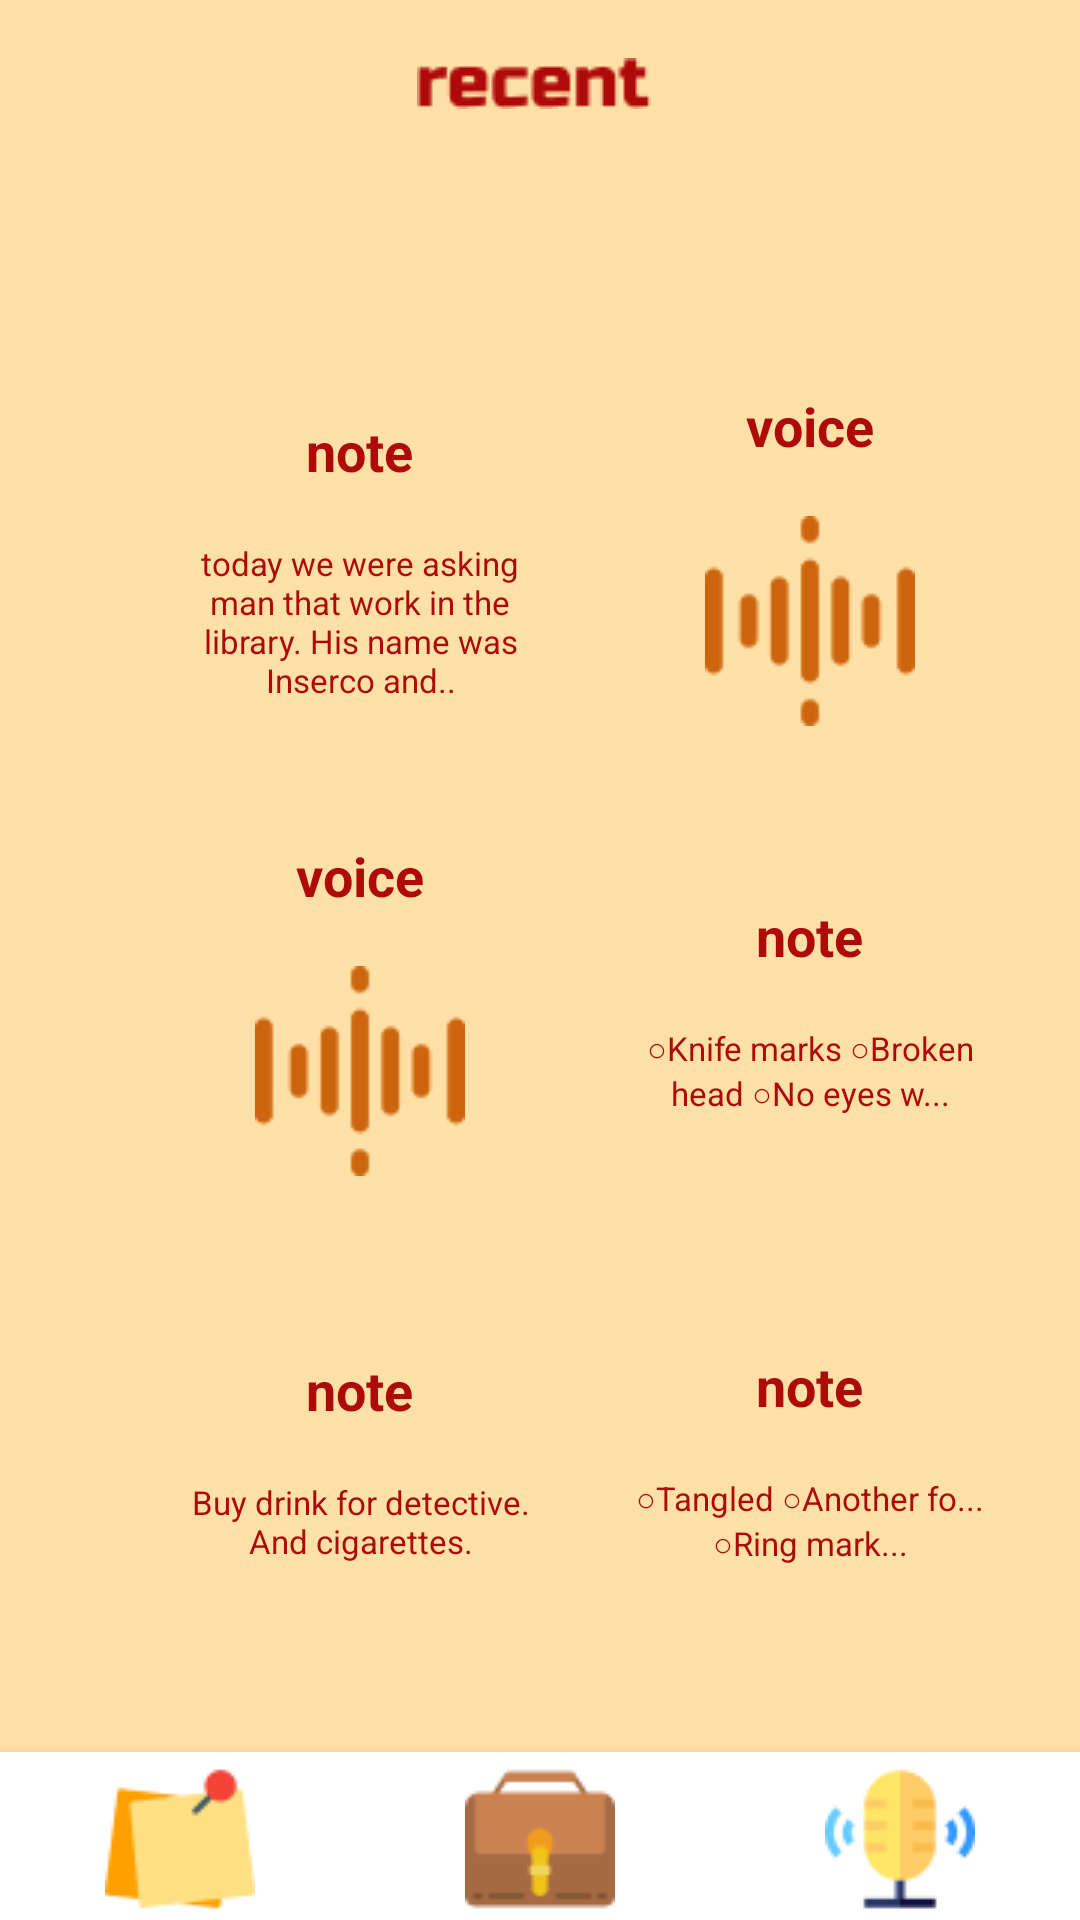

Icon bounding boxes for this 1080w x 1920h phone screenshot, format (x1, y1, x2, y2):
post: (105, 1769, 255, 1909)
voice control: (825, 1769, 975, 1909)
work: (465, 1769, 615, 1909)
